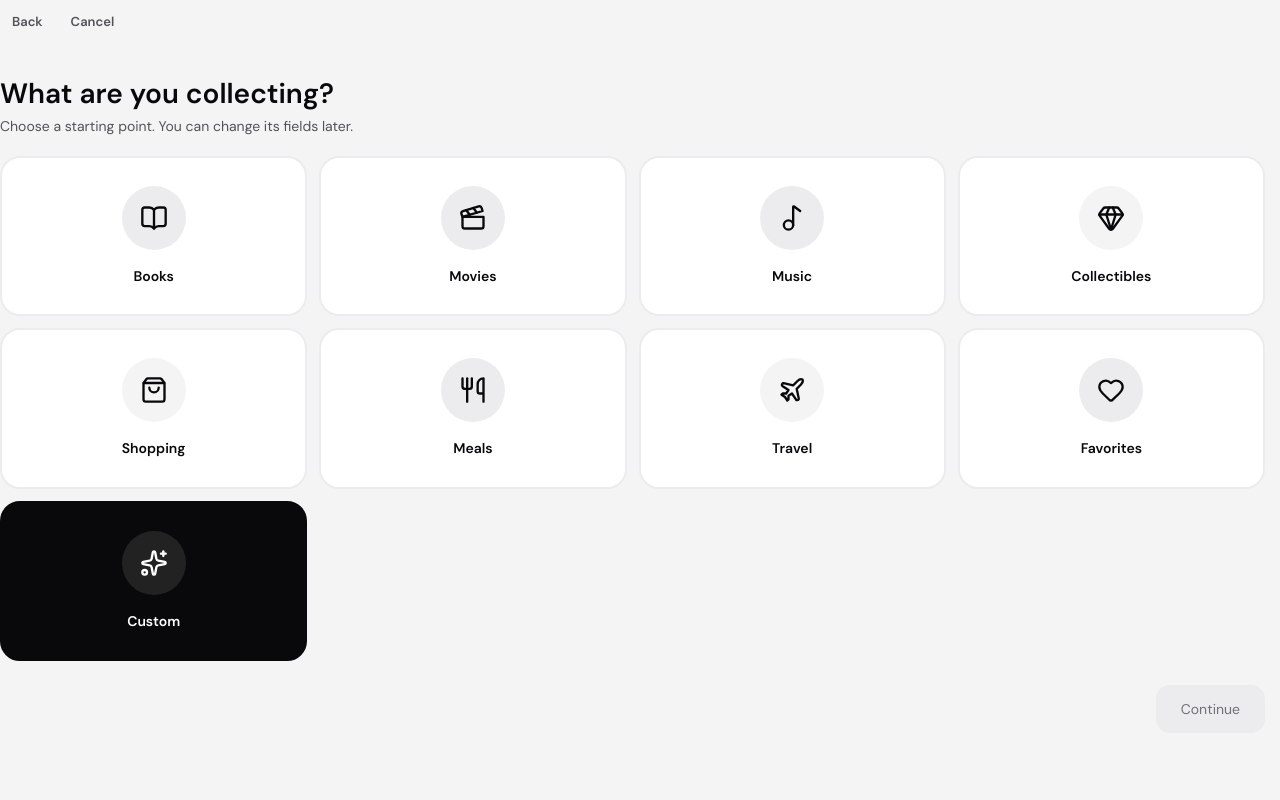
Collection wizard › shows the actual schema and preserves details across Back
Click the button with aria-label "Books preset" at (154, 236), box [0, 156, 307, 316]
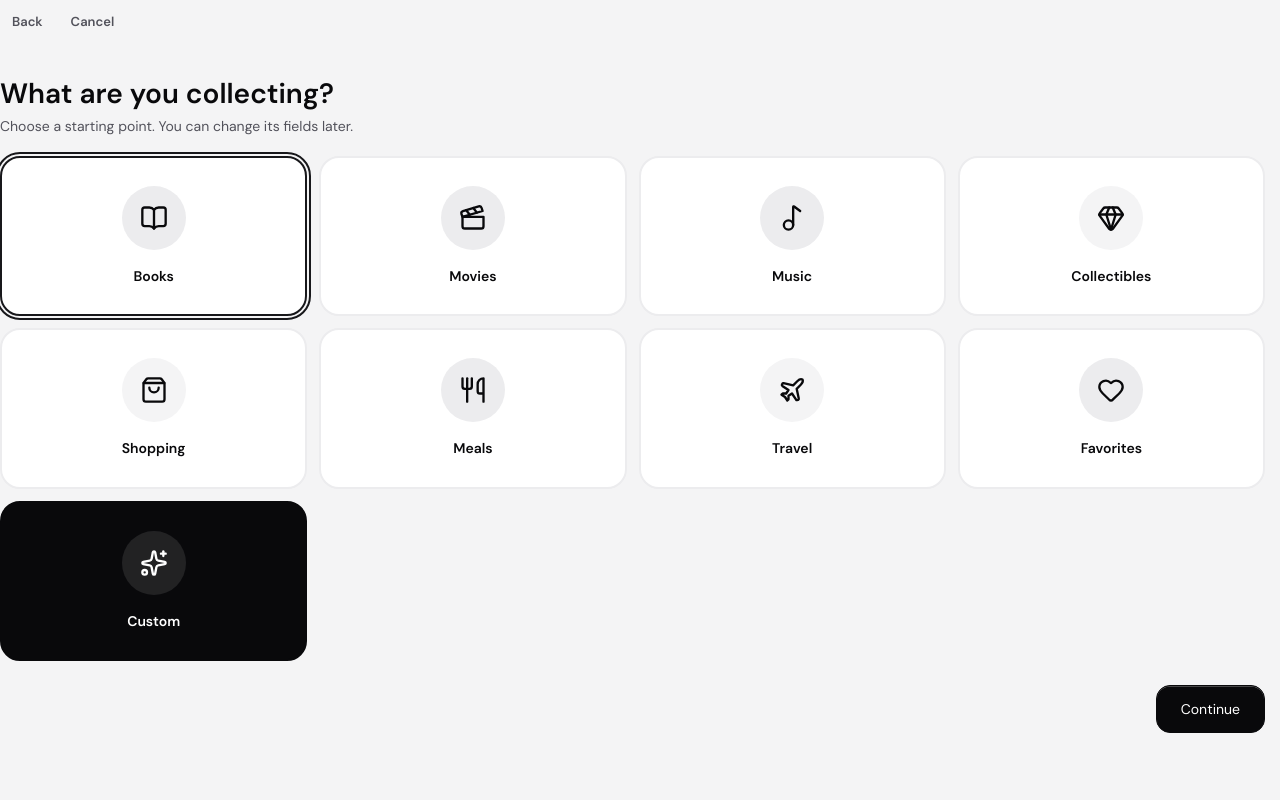
Click the button "Continue" at (1210, 709), box [1156, 685, 1265, 733]
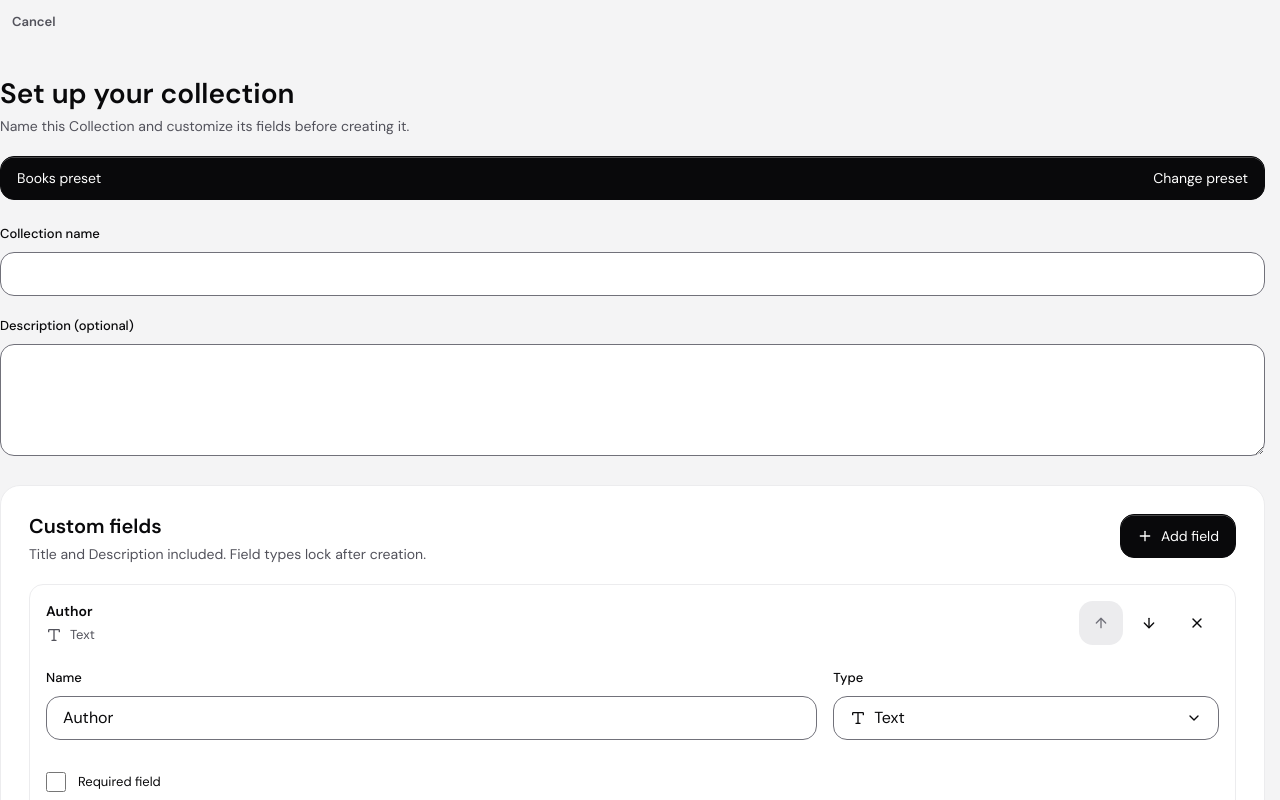
Now the heading "Set up your collection" is shown, box [0, 75, 294, 112]
Now the field showing "Author" is shown, box [46, 696, 817, 740]
Type "My favorites" into the field labelled "Collection name" at (632, 274), box [0, 252, 1265, 296]
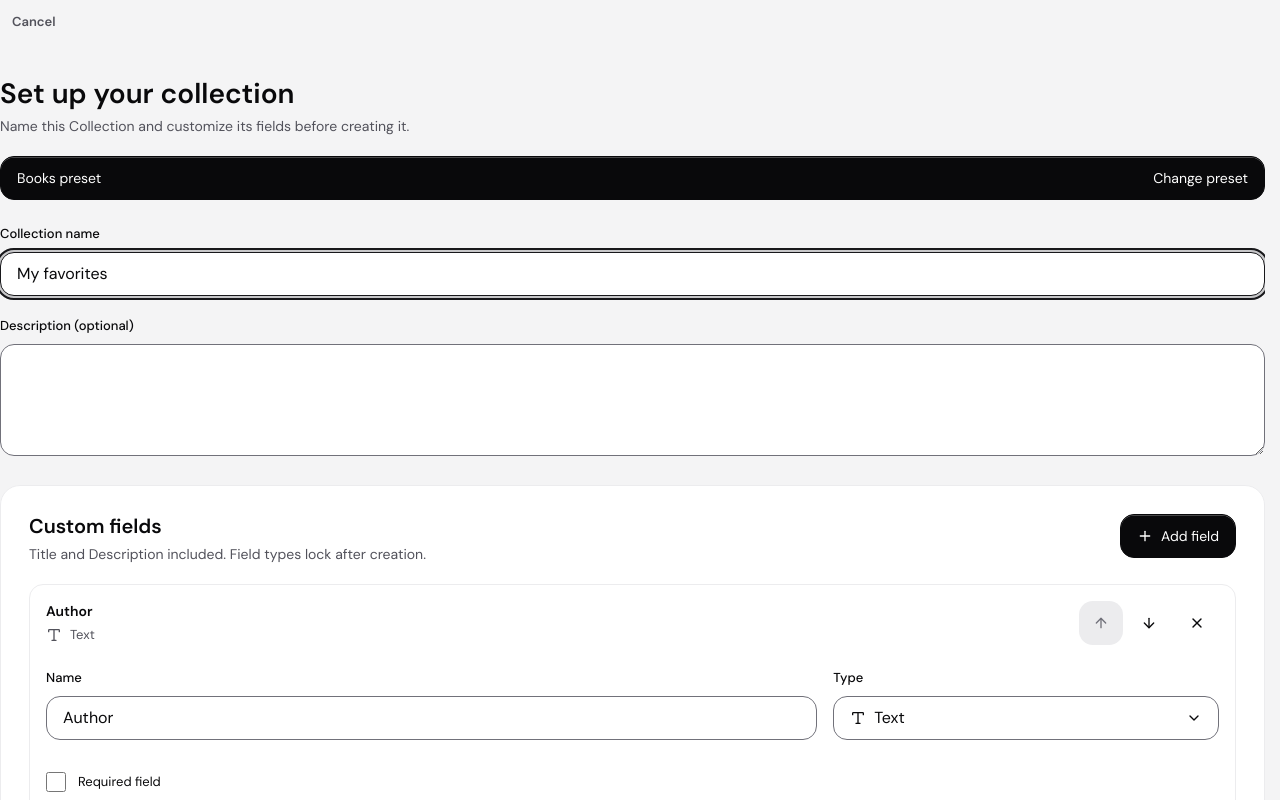
Type "Keep these close" into the text box labelled "Description (optional)" at (632, 400), box [0, 344, 1265, 456]
(page scrolled)
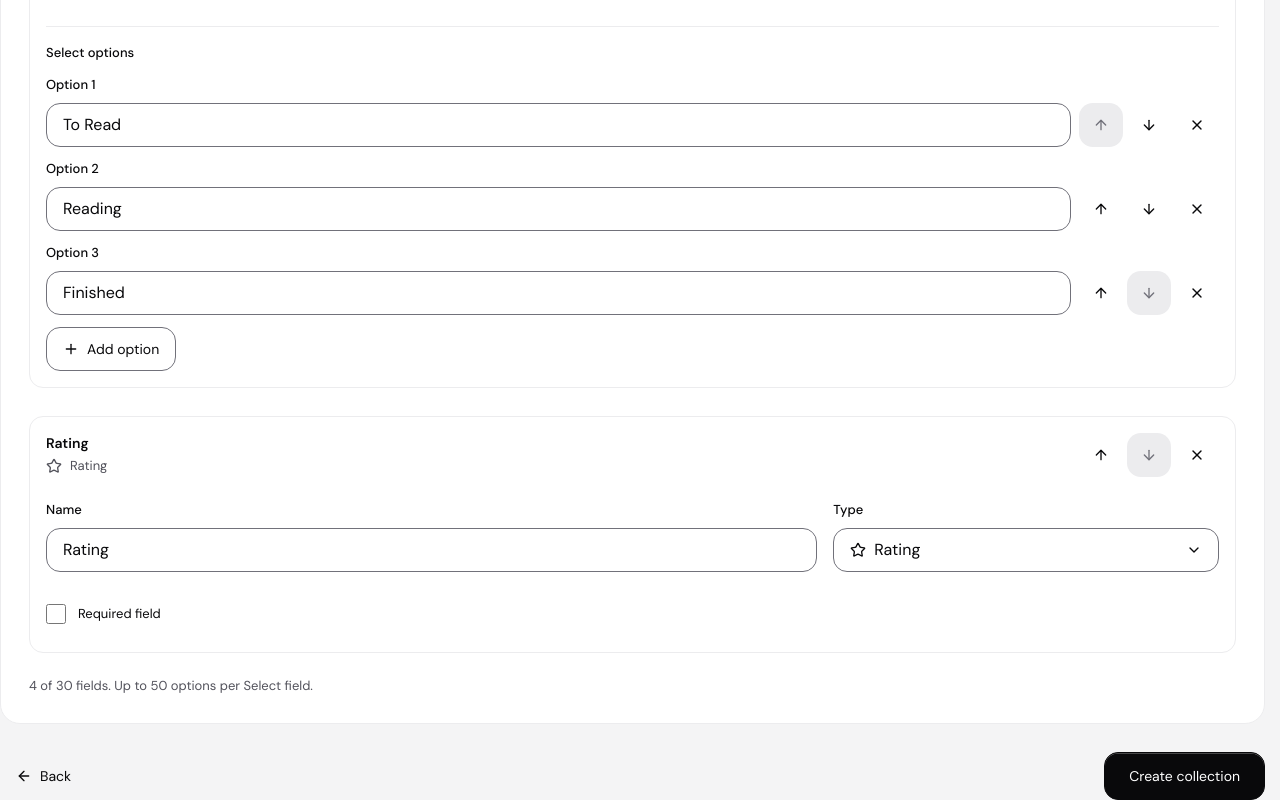
Click the button "Back" at (44, 776), box [0, 754, 87, 798]
(page scrolled)
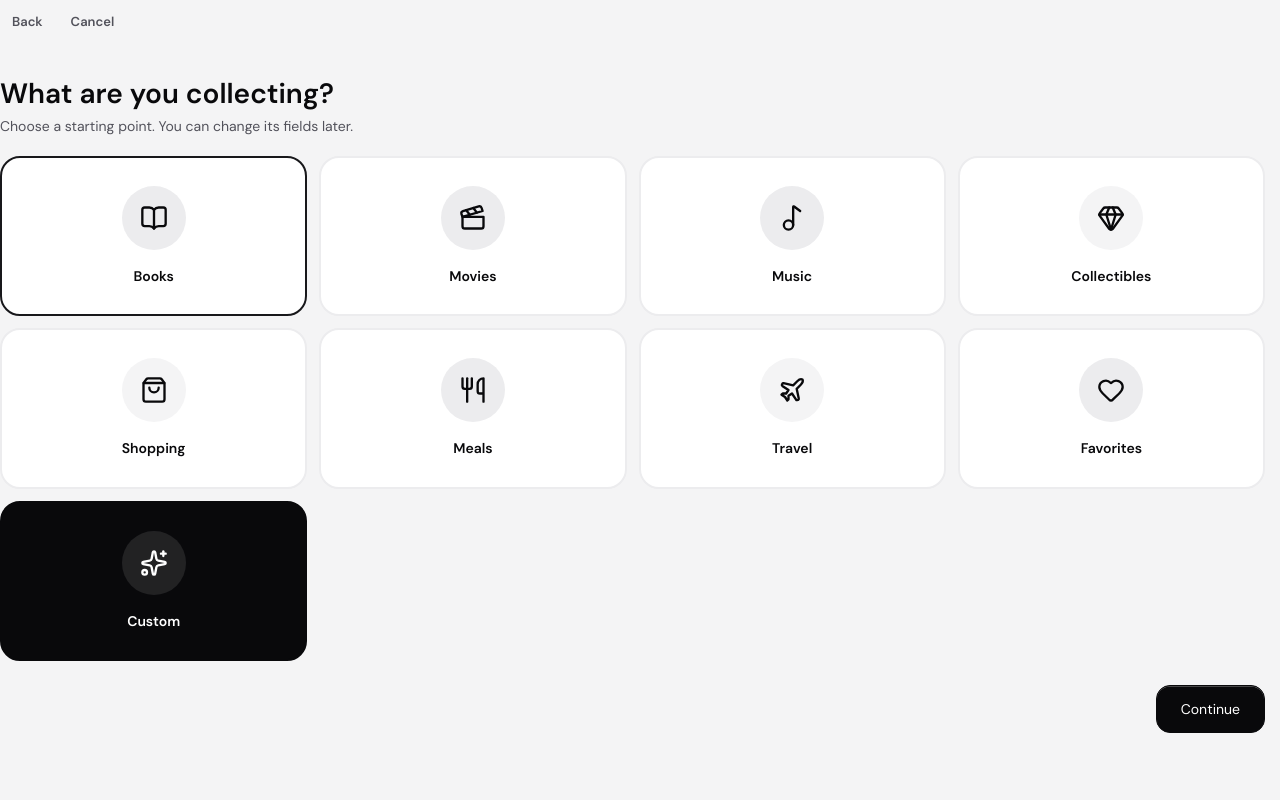
Click the button "Continue" at (1210, 709), box [1156, 685, 1265, 733]
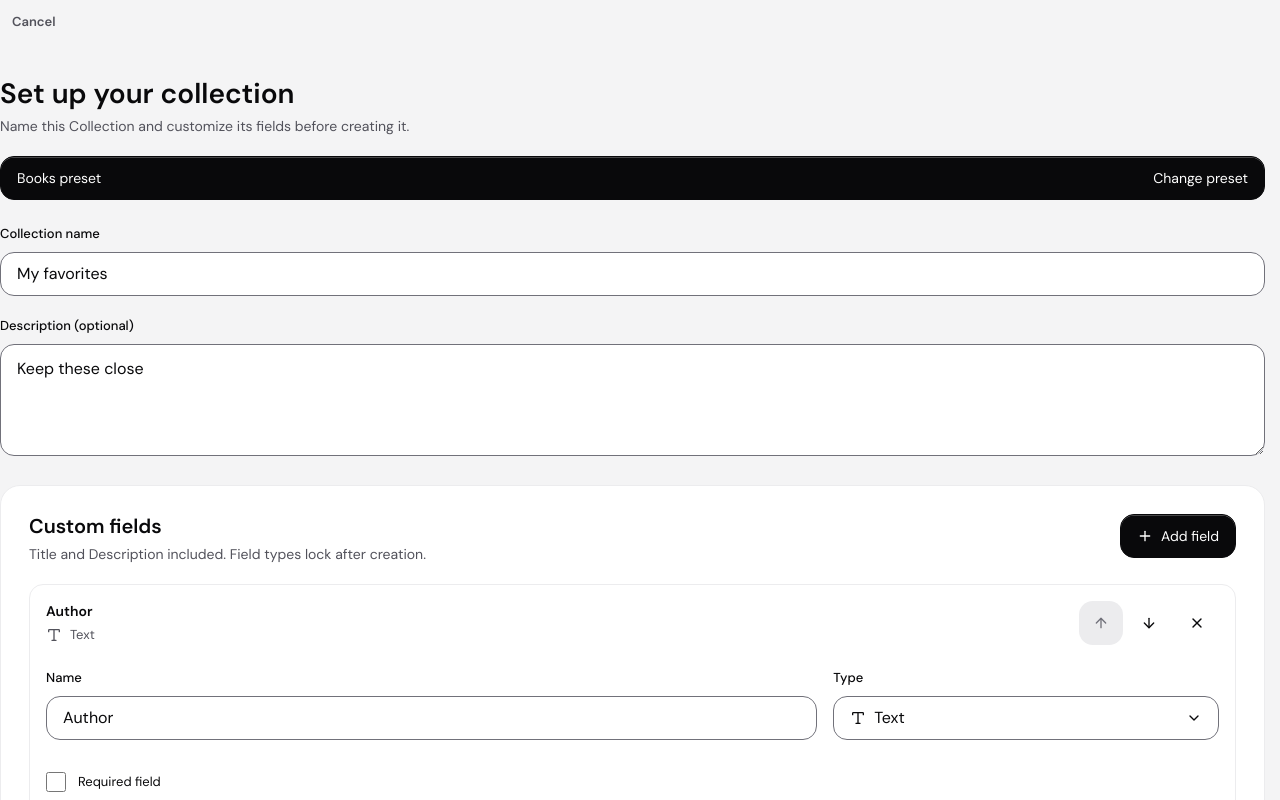
Now the field labelled "Collection name" holds "My favorites", box [0, 252, 1265, 296]
Now the text box labelled "Description (optional)" holds "Keep these close", box [0, 344, 1265, 456]
